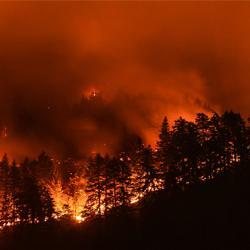fire: (53, 194, 86, 221), (131, 194, 138, 204)
